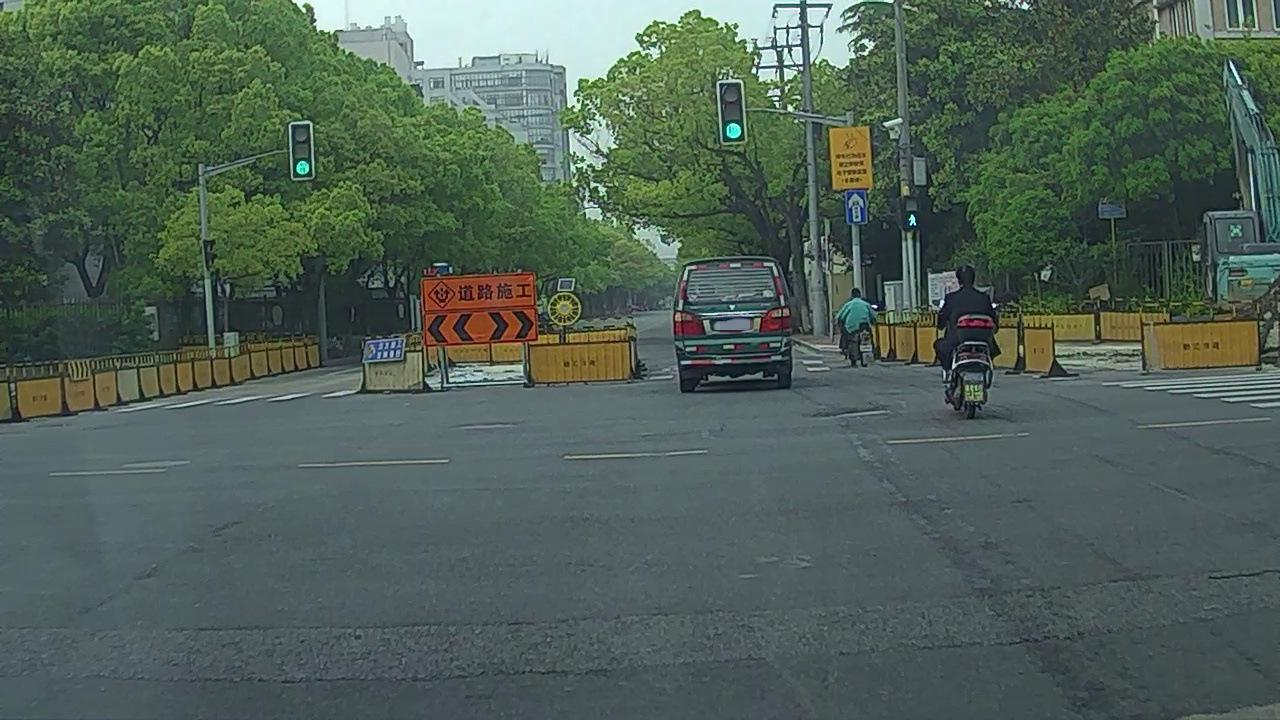traffic_light: (719, 84, 744, 140), (291, 126, 314, 178)
